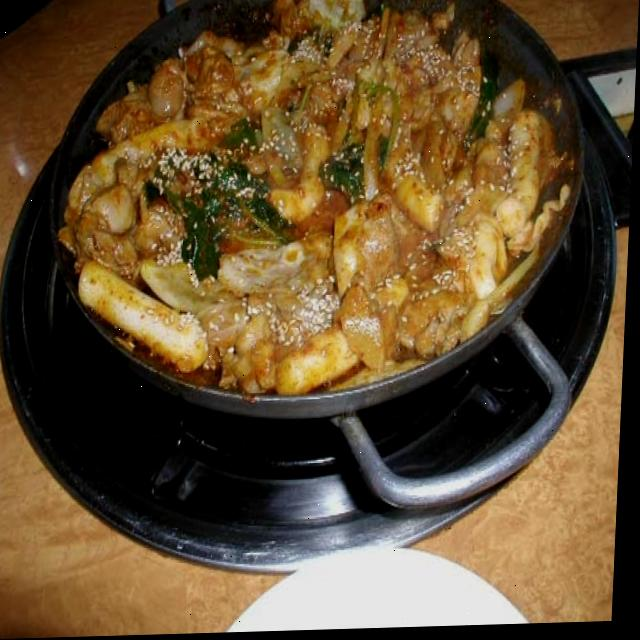牛肉菜式: (0, 57, 637, 626)
